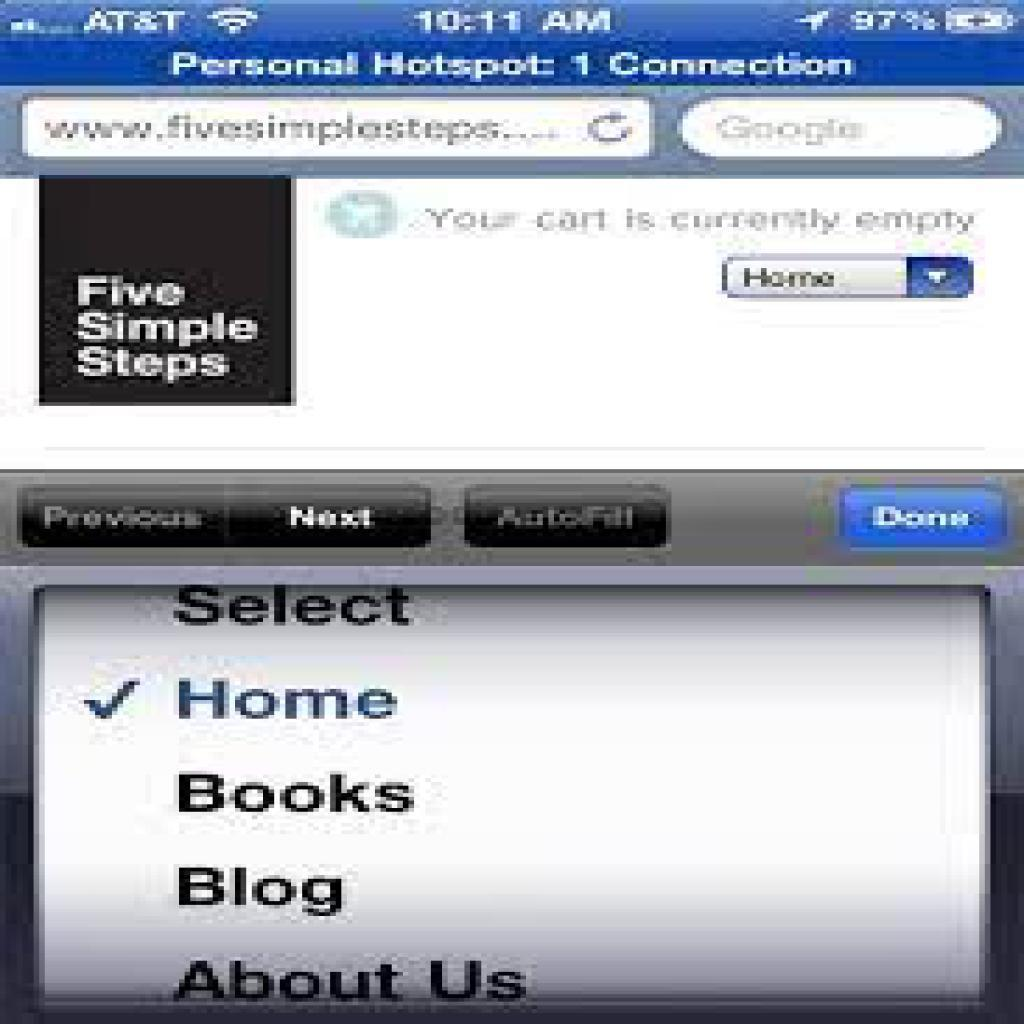button: (463, 486, 675, 557), (840, 483, 1011, 553)
dropdown: (722, 256, 976, 300)
icon: (585, 109, 637, 148)
input: (22, 94, 658, 164), (680, 91, 1008, 165)
